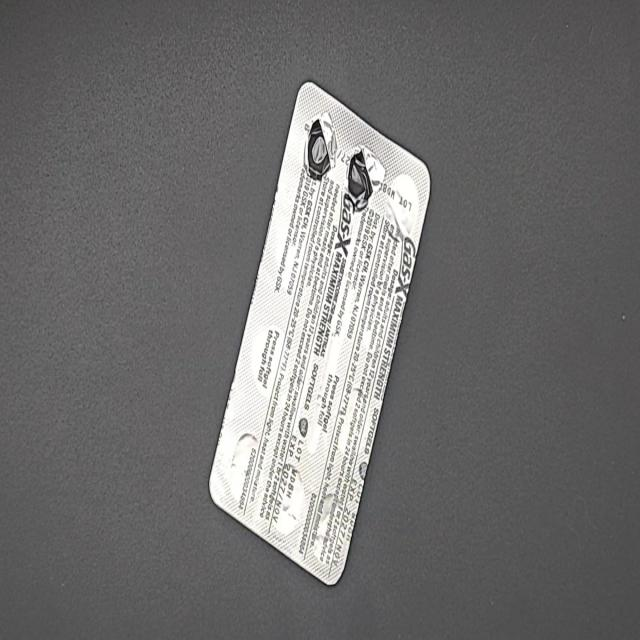defect: (344, 141, 387, 215), (304, 108, 338, 182)
